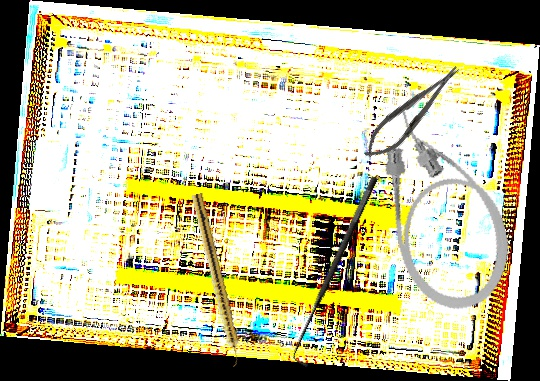Cannula: (367, 94, 522, 321)
Handpiece: (187, 192, 246, 369)
Hook Surgical: (283, 174, 393, 371)
Needle Holder: (356, 57, 469, 168)
